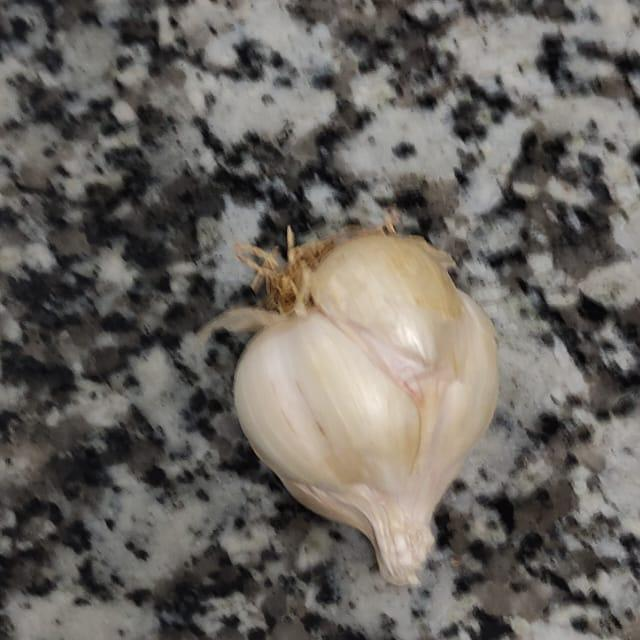garlic: (157, 189, 567, 609)
